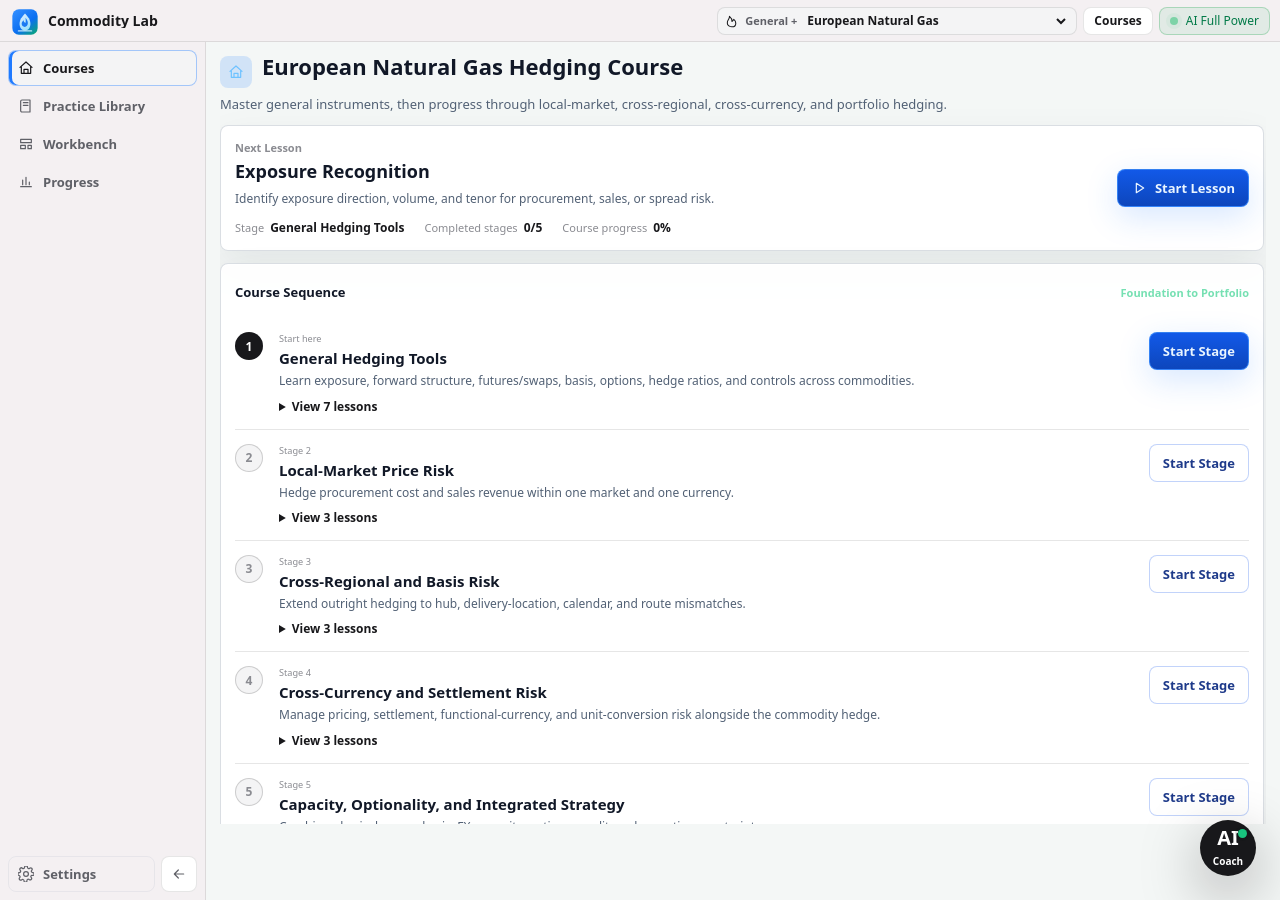
Test: Commodity Lab shell › lets the floating assistant generate a quiz and open the review workflow
This screenshot has width=1280, height=900.
Expected: the text "AI Full Power" is shown, left=1186, top=12, right=1259, bottom=29
Click the button with aria-label "Live assistant": (1228,848) left=1200, top=820, right=1256, bottom=876
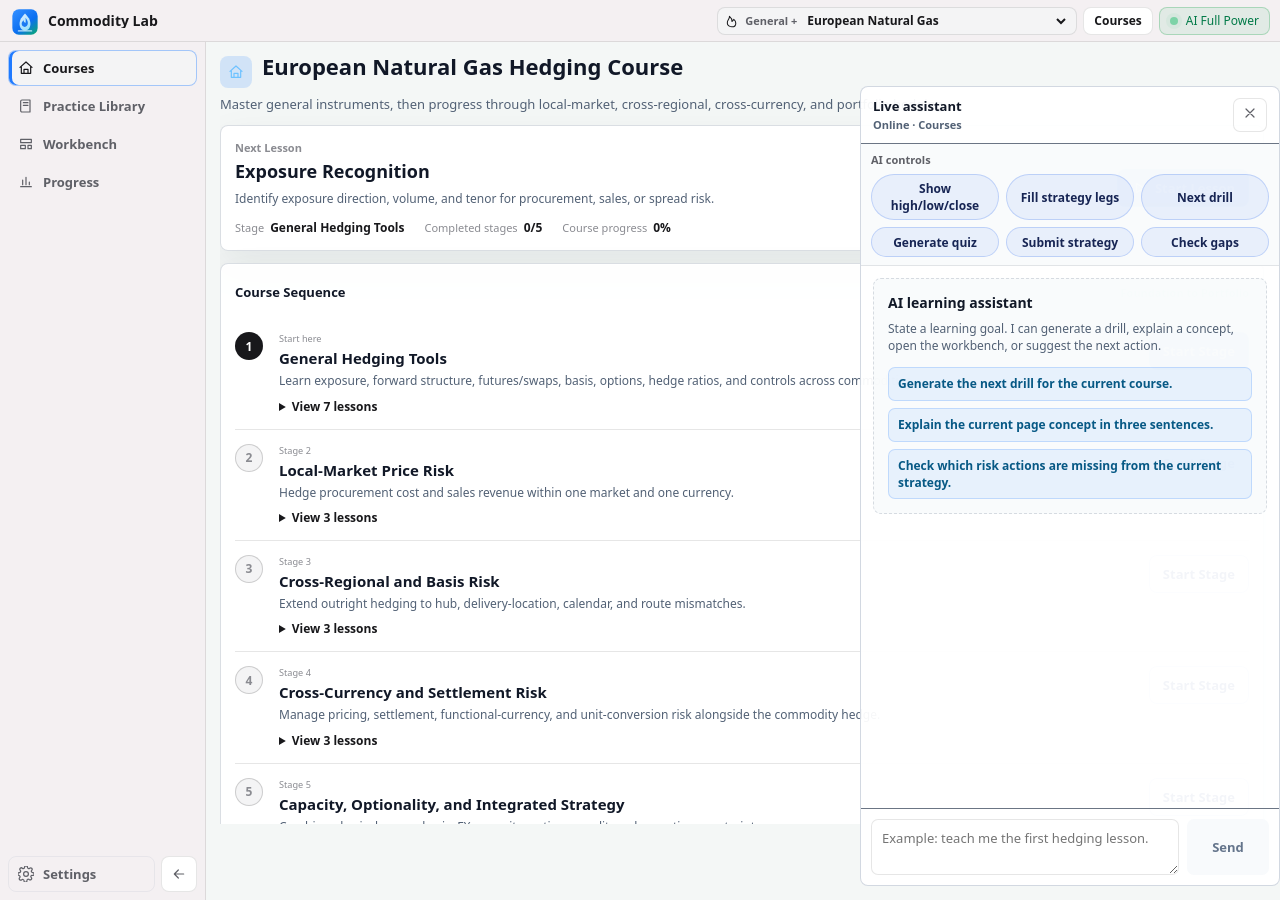
Click the button "Generate quiz": (935,242) left=871, top=227, right=999, bottom=257
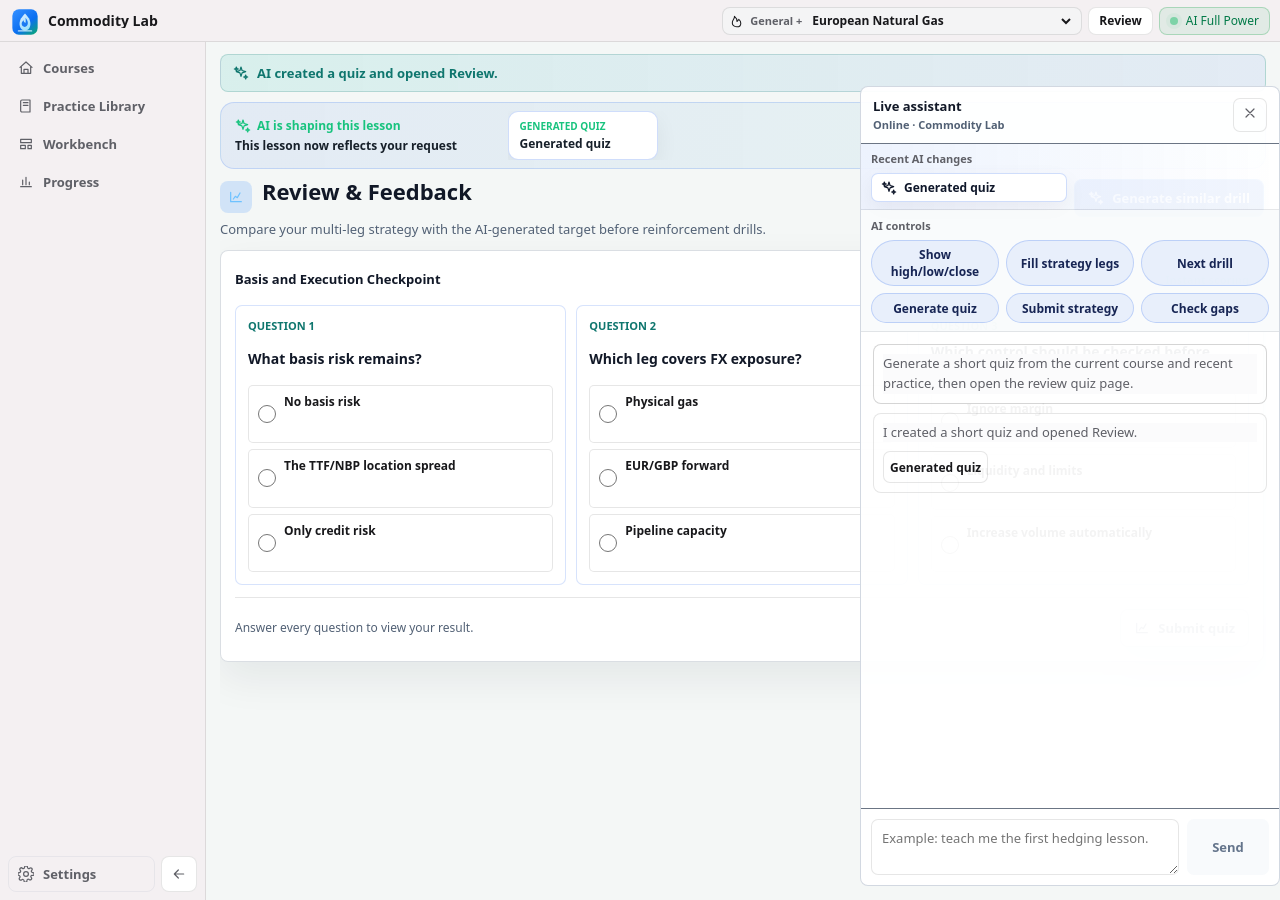
Expected: the text "Basis and Execution Checkpoint" is shown, left=235, top=270, right=440, bottom=288
Expected: the text "Question 1" is shown, left=248, top=318, right=315, bottom=333
Expected: the text "What basis risk remains?" is shown, left=248, top=349, right=422, bottom=368
